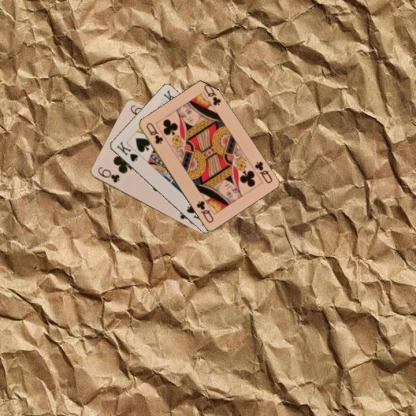6c: (95, 164, 121, 184)
Ks: (114, 139, 139, 163)
Qc: (143, 120, 164, 145), (252, 159, 273, 184)
